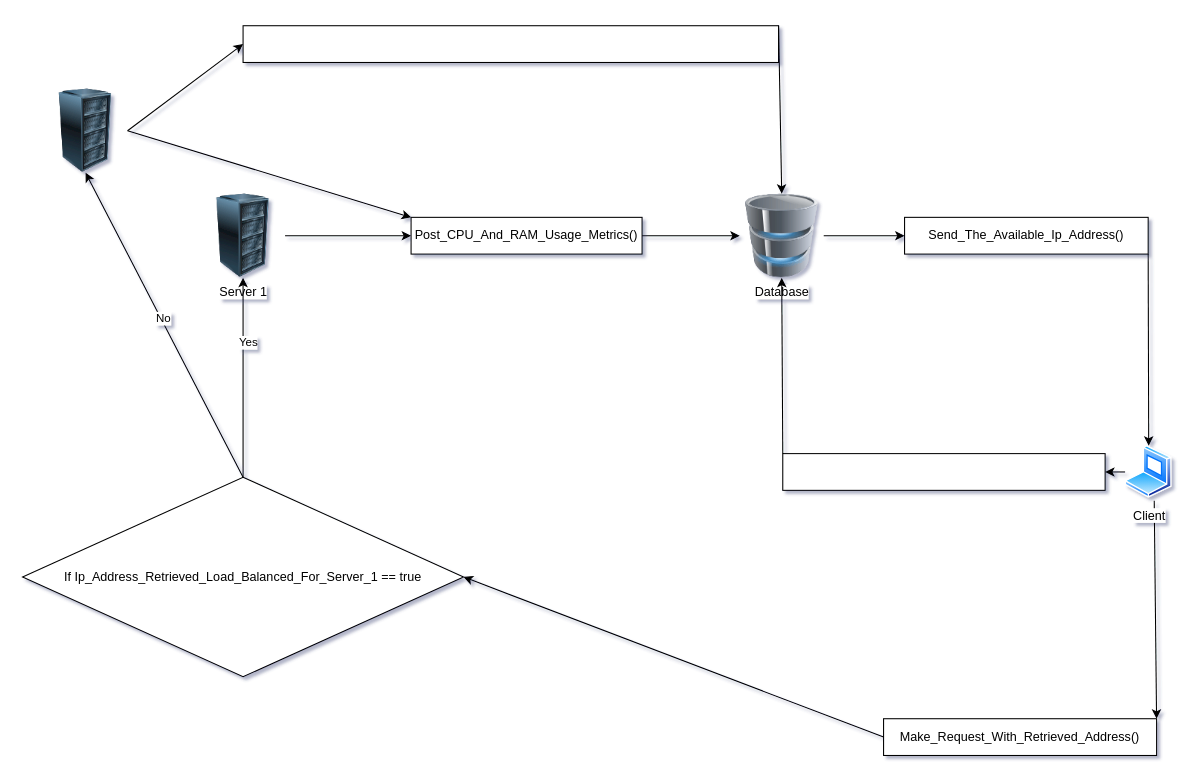
Image size: 1197x780. Some labels were removed from this diagram. Each missing label, with the centre of its shape:
"Balance_The_Load_For_Upcoming_Requests_Based_On_The_CPU_And_RAM_Metrics()" belongs at [510,43].
"Get_The_Available_Transcription_Server_Address()" belongs at [943,471].
"Server 2 ( Load balancing Node )" belongs at [85,130].
